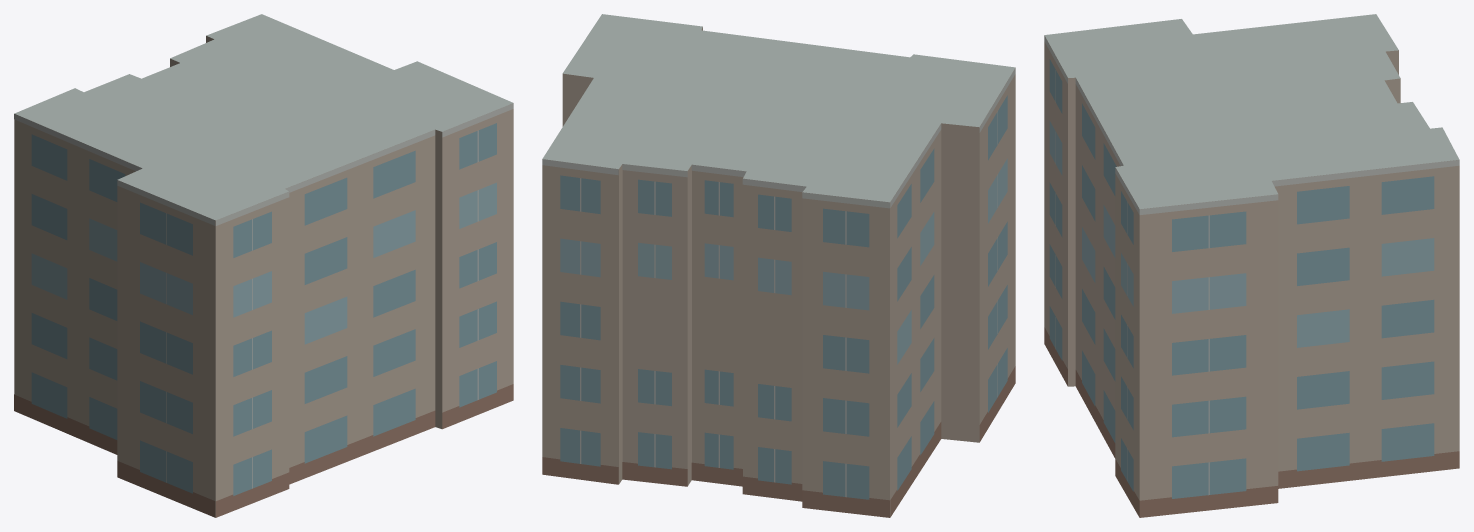
File: survey-upis-32815101.glb
3 views of the same model, side by side, from view 1: azimuth 30°, elevation 25°; view 2: azimuth 150°, elevation 25°; view 3: azimuth 270°, elevation 25° (orthographic). The views are drawn at different scales.
Parts seen in each view (by area): view 1: survey-upis-32815101.tmp; view 2: survey-upis-32815101.tmp; view 3: survey-upis-32815101.tmp.
Part boxes in pixels (bbox=[...]): survey-upis-32815101.tmp: bbox=[14, 14, 513, 517]; survey-upis-32815101.tmp: bbox=[542, 14, 1015, 517]; survey-upis-32815101.tmp: bbox=[1044, 14, 1459, 517].
Size of the model in its own units: 17.1 by 12.6 by 15.37.
